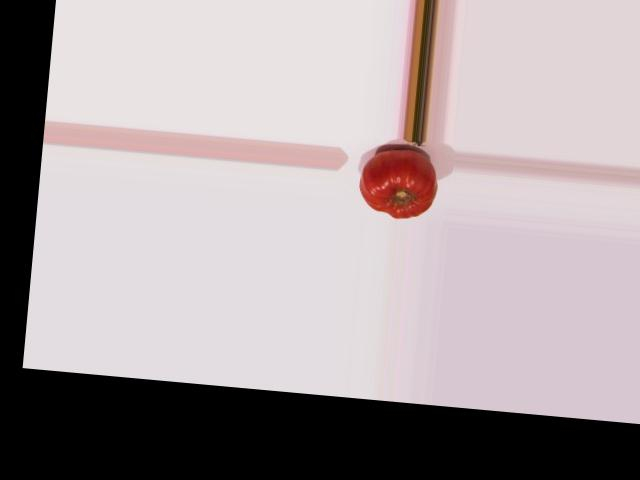tomato: (357, 146, 439, 221)
